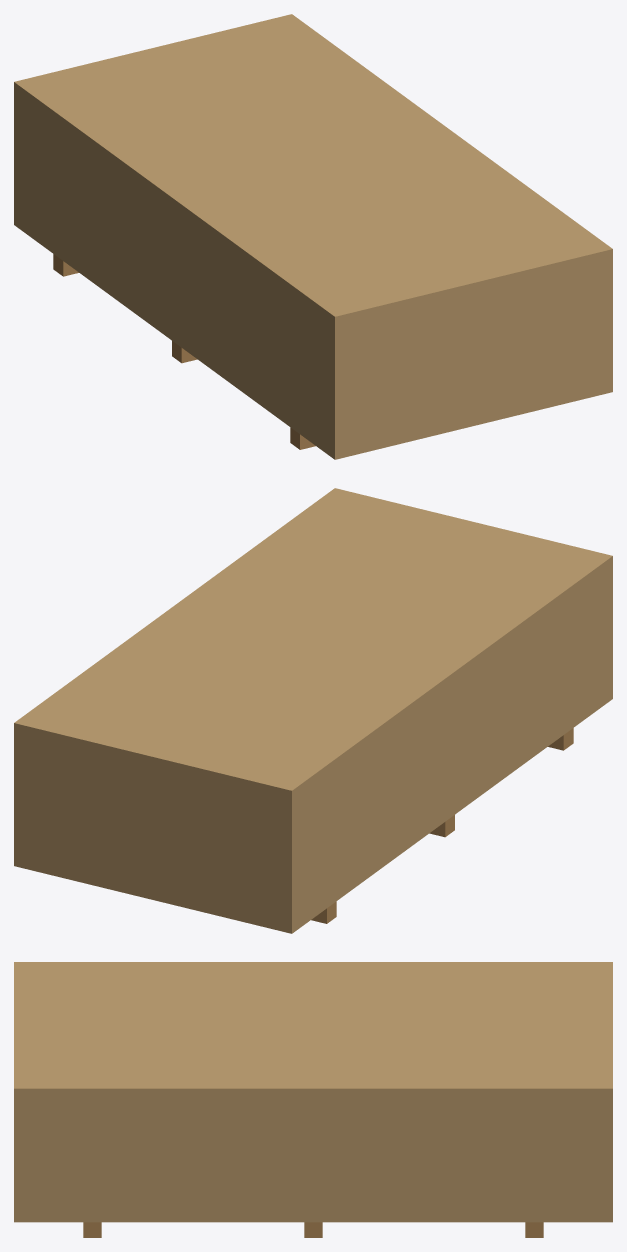
File: plant.store.sheets.glb
3 views of the same model, one above another, from view 1: azimuth 30°, elevation 25°; view 2: azimuth 150°, elevation 25°; view 3: azimuth 270°, elevation 25° (orthographic). The views are drawn at different scales.
Parts seen in each view (by area): view 1: main__plywood, main__softwood; view 2: main__plywood, main__softwood; view 3: main__plywood, main__softwood.
Part boxes in pixels (x1,y1,x2,y2): main__plywood: (14, 14, 612, 459); main__softwood: (53, 254, 315, 449); main__plywood: (14, 488, 612, 933); main__softwood: (311, 728, 573, 923); main__plywood: (14, 962, 612, 1222); main__softwood: (83, 1222, 543, 1237).
Size of the model in its own units: 1.22 by 0.675 by 2.44.
